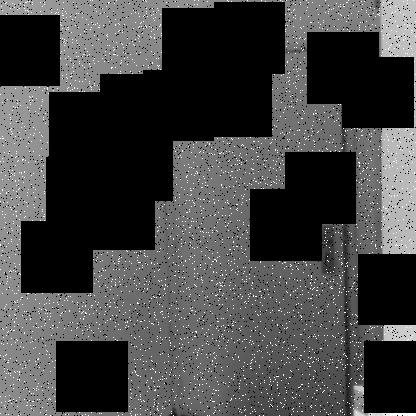Porte: (159, 34, 362, 416)
